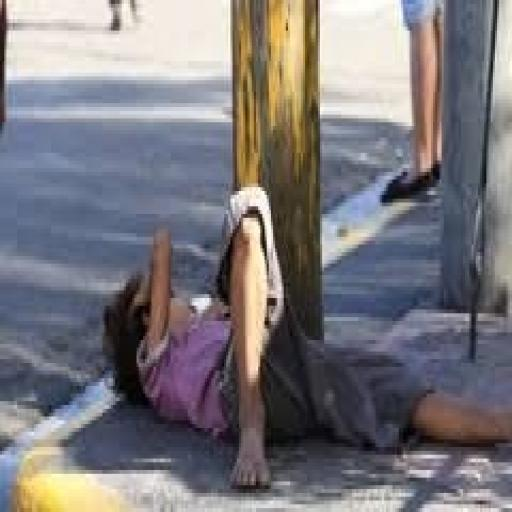sleeping: (100, 183, 510, 493)
